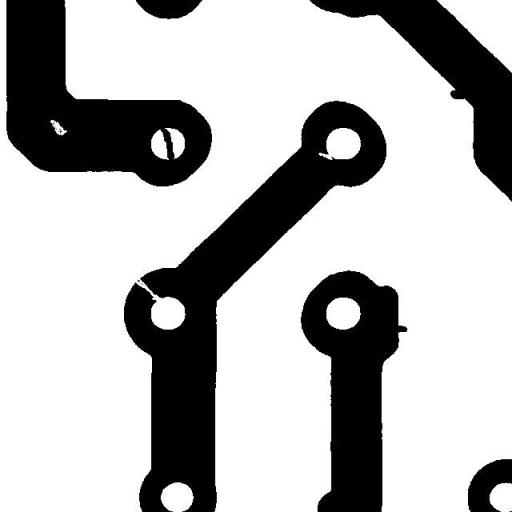mousebite: (310, 145, 341, 167)
open: (126, 266, 170, 308)
pin-hole: (42, 112, 74, 142)
short: (152, 120, 182, 166)
spur: (442, 82, 474, 106), (386, 318, 414, 340)
